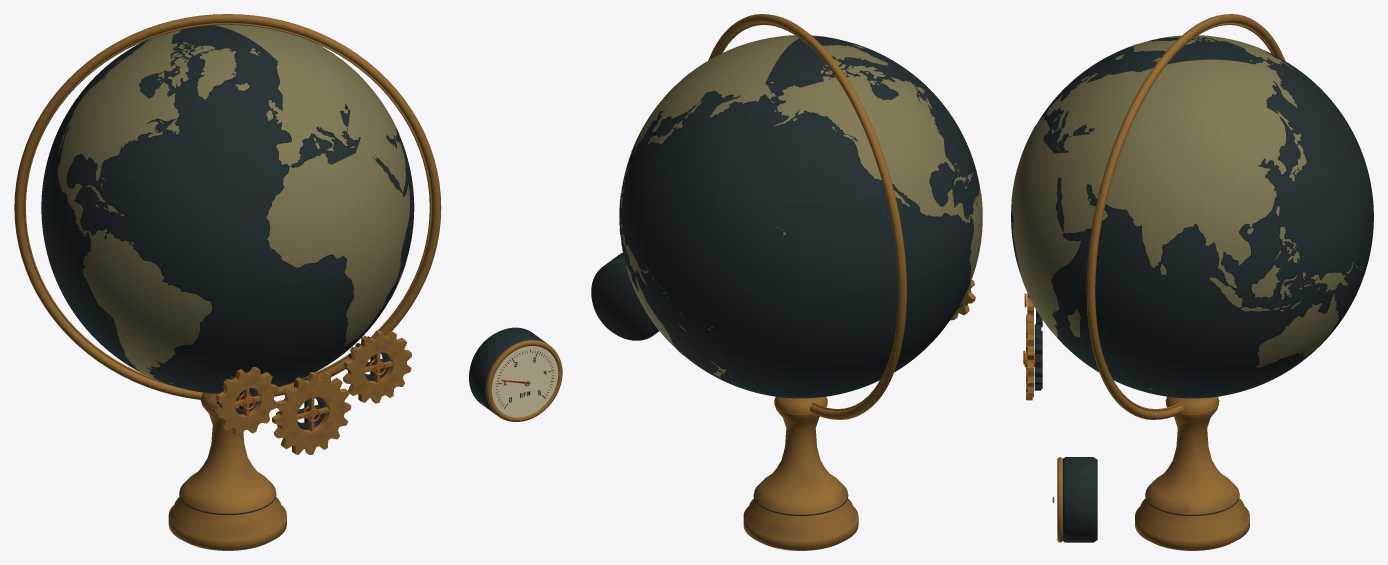
File: MechanicalGlobe_Blender.fbx
3 renders of one model, left to right at view 1: azimuth 30°, elevation 25°; view 2: azimuth 150°, elevation 25°; view 3: azimuth 270°, elevation 25°, orthographic. The views are drawn at different scales.
Visible parts, largest first — view 1: Sphere_DarkMetalShell, Sphere_EngravedContinentSections_0, Sphere_EngravedContinentSections_7, Meridian_AntiqueBrass_Outer, Pedestal_TurnedBrass, Gear_16T_ToothedWheel, RPMGauge_PrintedDial, Gear_14T_ToothedWheel, Meridian_AntiqueBrass_Inlay, Gear_12T_ToothedWheel, RPMGauge_DarkHousing, Sphere_EngravedContinentSections_6 (+1 smaller); view 2: Sphere_DarkMetalShell, Sphere_EngravedContinentSections_7, Pedestal_TurnedBrass, Sphere_EngravedContinentSections_0, Meridian_AntiqueBrass_Outer, RPMGauge_DarkHousing, Sphere_EngravedContinentSections_6, Sphere_EngravedContinentSections_5, Meridian_AntiqueBrass_Inlay; view 3: Sphere_DarkMetalShell, Sphere_EngravedContinentSections_0, Pedestal_TurnedBrass, Meridian_AntiqueBrass_Outer, RPMGauge_DarkHousing, Sphere_EngravedContinentSections_5, Sphere_EngravedContinentSections_7, Sphere_EngravedContinentSections_6, Sphere_EngravedContinentSections_2, Gear_14T_ToothedWheel, RPMGauge_BrassBezel, Sphere_EngravedContinentSections_1 (+1 smaller).
Boxes of the visible parts, box(x1,y1,x2,y2) form: Sphere_DarkMetalShell: box(41, 25, 414, 393); Sphere_EngravedContinentSections_0: box(102, 25, 409, 383); Sphere_EngravedContinentSections_7: box(57, 30, 212, 390); Meridian_AntiqueBrass_Outer: box(14, 14, 441, 399); Pedestal_TurnedBrass: box(168, 392, 286, 550); Gear_16T_ToothedWheel: box(272, 372, 351, 454); RPMGauge_PrintedDial: box(491, 346, 558, 417); Gear_14T_ToothedWheel: box(343, 330, 411, 403); Meridian_AntiqueBrass_Inlay: box(23, 23, 431, 384); Gear_12T_ToothedWheel: box(214, 367, 278, 435); RPMGauge_DarkHousing: box(469, 327, 547, 414); Sphere_EngravedContinentSections_6: box(101, 45, 319, 212); Sphere_DarkMetalShell: box(619, 36, 980, 398); Sphere_EngravedContinentSections_7: box(619, 70, 982, 330); Pedestal_TurnedBrass: box(743, 396, 858, 550); Sphere_EngravedContinentSections_0: box(620, 35, 955, 327); Meridian_AntiqueBrass_Outer: box(708, 14, 906, 419); RPMGauge_DarkHousing: box(591, 253, 658, 340); Sphere_EngravedContinentSections_6: box(621, 45, 971, 331); Sphere_EngravedContinentSections_5: box(626, 57, 979, 373); Meridian_AntiqueBrass_Inlay: box(719, 23, 892, 410); Sphere_DarkMetalShell: box(1011, 36, 1373, 398); Sphere_EngravedContinentSections_0: box(1011, 35, 1361, 336); Pedestal_TurnedBrass: box(1135, 396, 1249, 550); Meridian_AntiqueBrass_Outer: box(1086, 14, 1285, 419); RPMGauge_DarkHousing: box(1063, 457, 1097, 542); Sphere_EngravedContinentSections_5: box(1051, 36, 1361, 367); Sphere_EngravedContinentSections_7: box(1151, 35, 1306, 398); Sphere_EngravedContinentSections_6: box(1053, 35, 1362, 295); Sphere_EngravedContinentSections_2: box(1149, 36, 1362, 389); Gear_14T_ToothedWheel: box(1027, 322, 1033, 397); RPMGauge_BrassBezel: box(1057, 457, 1062, 542); Sphere_EngravedContinentSections_1: box(1115, 37, 1362, 307).
Bounding box in the file's own units: 1.8 × 2.07 × 1.36.
6 materials, 6 textured.
